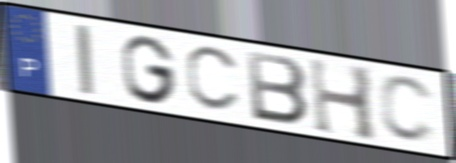B: (244, 48, 311, 128)
C: (377, 73, 438, 146), (184, 46, 244, 116)
G: (119, 33, 179, 106)
H: (307, 55, 381, 145)
I: (72, 22, 97, 97)
